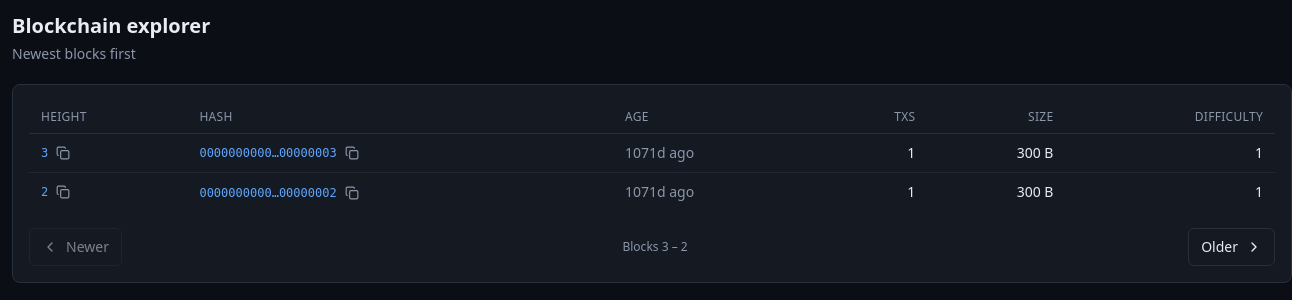
Test: Explorer › pages older blocks using the `before` cursor
Check: the table named "Blocks" is shown, box [29,101,1275,212]
Click the button "Older".
click(1232, 246)  # box [1188,228,1275,266]
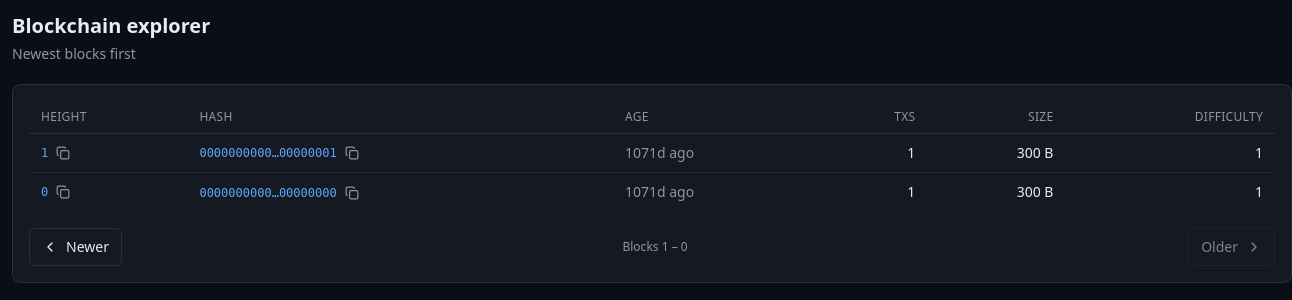
Check: the text "Blocks 1 – 0" is shown, box [622,238,688,254]
Check: the button "Older" is disabled, box [1188,228,1275,266]
